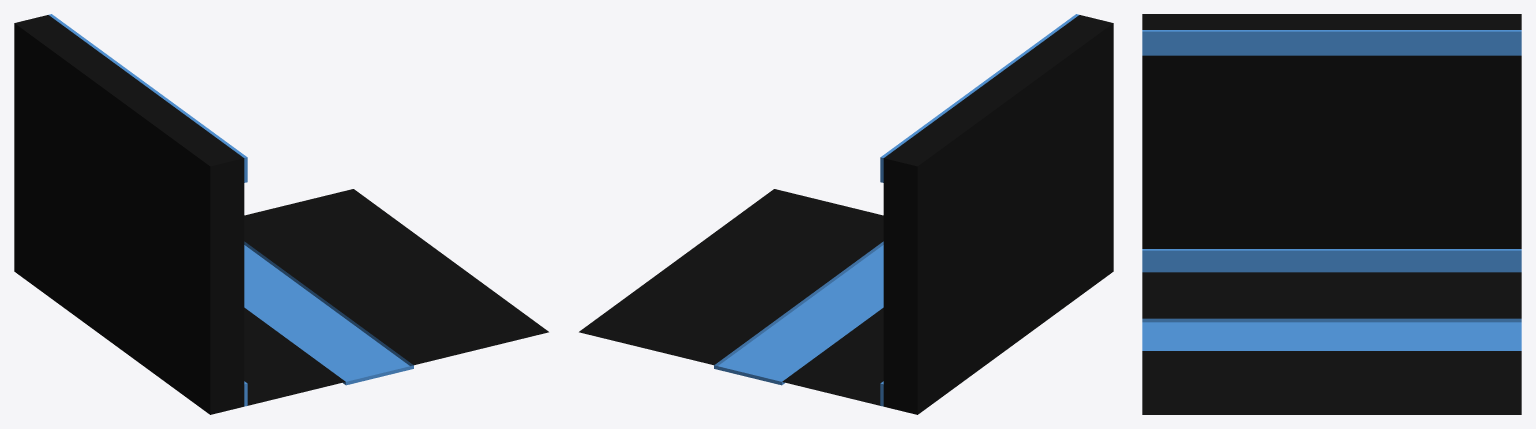
Rendered from Wall_Single.fbx.
3 views of the same model, side by side, from view 1: azimuth 30°, elevation 25°; view 2: azimuth 150°, elevation 25°; view 3: azimuth 270°, elevation 25° (orthographic). The views are drawn at different scales.
Visible parts, largest first — view 1: pPlane3; view 2: pPlane3; view 3: pPlane3.
Part boxes in pixels (x1,y1,x2,y2): pPlane3: (14,14,548,414); pPlane3: (579,14,1113,414); pPlane3: (1142,14,1521,414).
Size of the model in its own units: 10 by 7.1 by 10.
